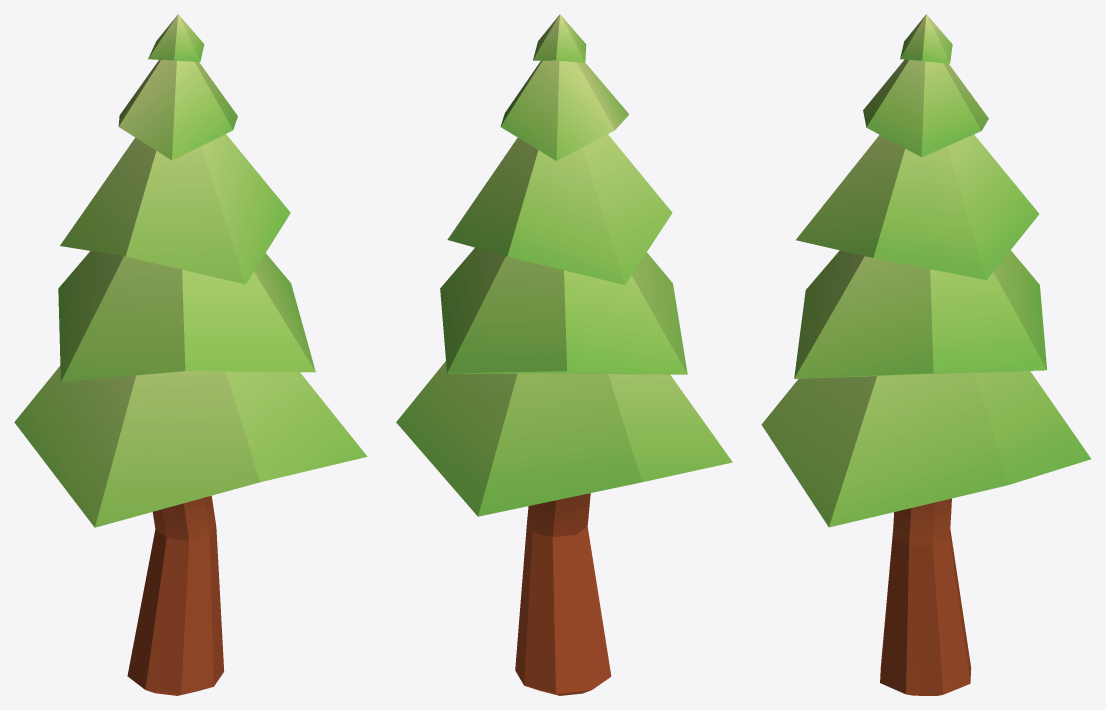
The model's file is LowPolyTree.fbx.
3 renders of one model, left to right at view 1: azimuth 30°, elevation 25°; view 2: azimuth 150°, elevation 25°; view 3: azimuth 270°, elevation 25°, orthographic.
Visible parts, largest first — view 1: Cone.004; view 2: Cone.004; view 3: Cone.004.
Boxes of the visible parts, <box> form: Cone.004: <box>14,14,367,695</box>; Cone.004: <box>396,14,732,695</box>; Cone.004: <box>761,14,1091,695</box>.
Bounding box in the file's own units: 3770 × 8941 × 3982.
